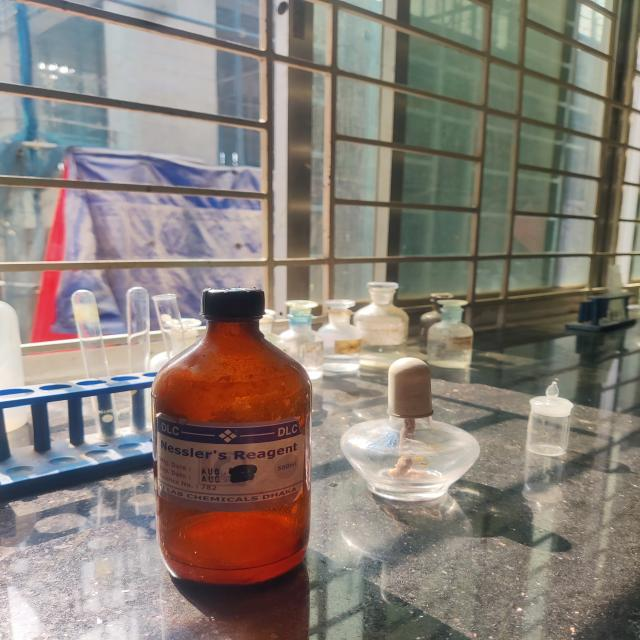Nessler_Reagent_Bottle: (136, 276, 342, 598)
Spirit_Lamp: (341, 343, 491, 525)
Weighing_Bottle: (520, 377, 600, 467)
